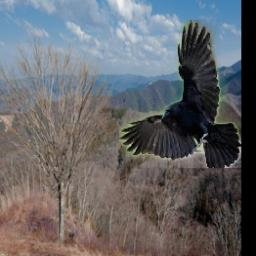Crow: (119, 21, 241, 169)
